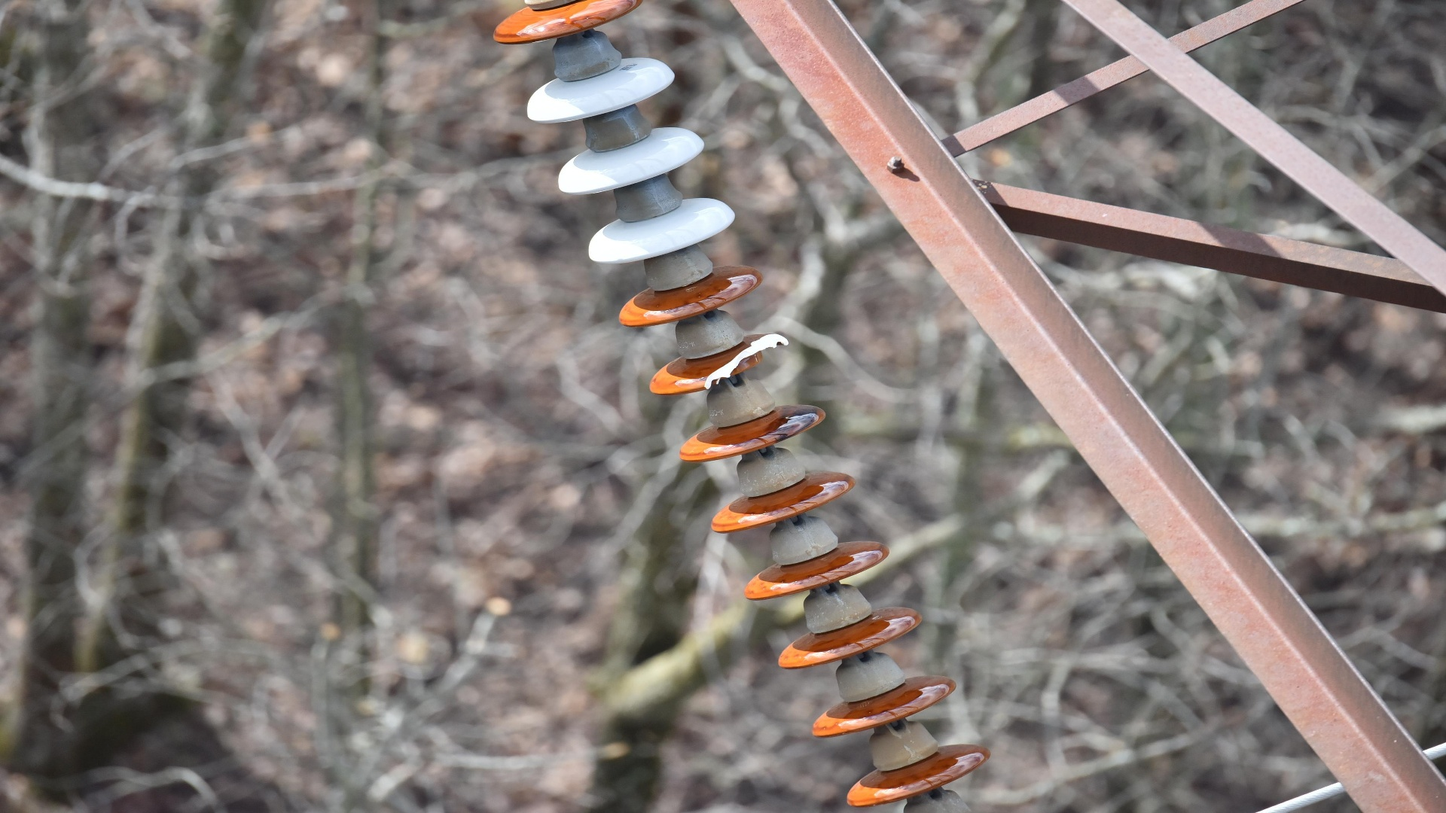insulator: (489, 1, 996, 813)
